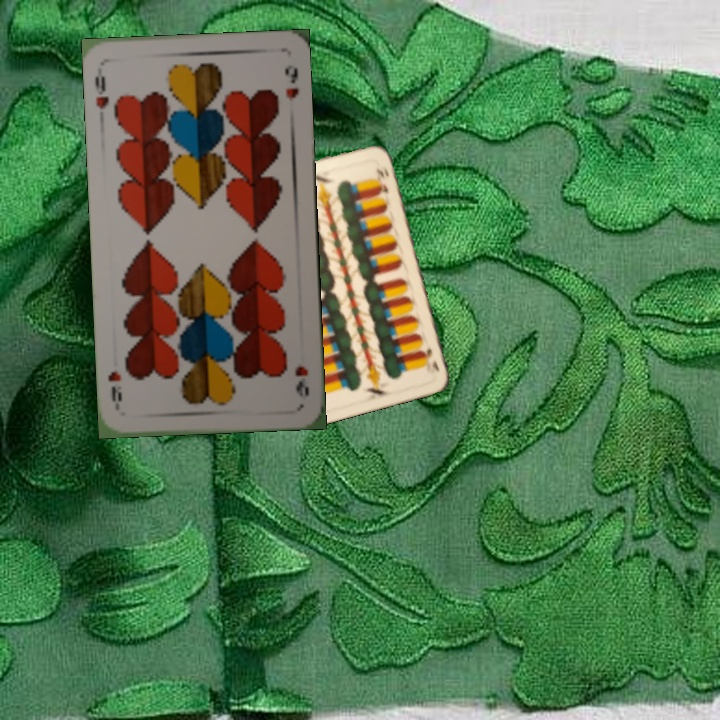E10: (419, 344, 442, 373)
H9: (91, 72, 112, 112), (291, 362, 312, 399)
